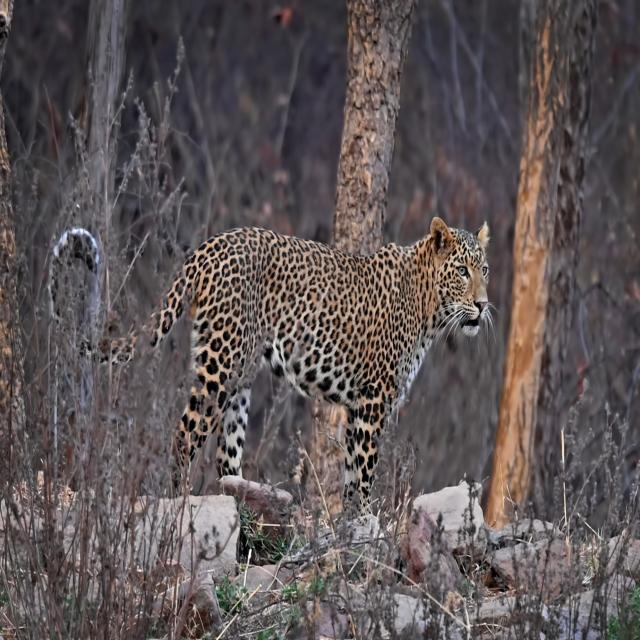Leopard: (51, 224, 490, 491)
